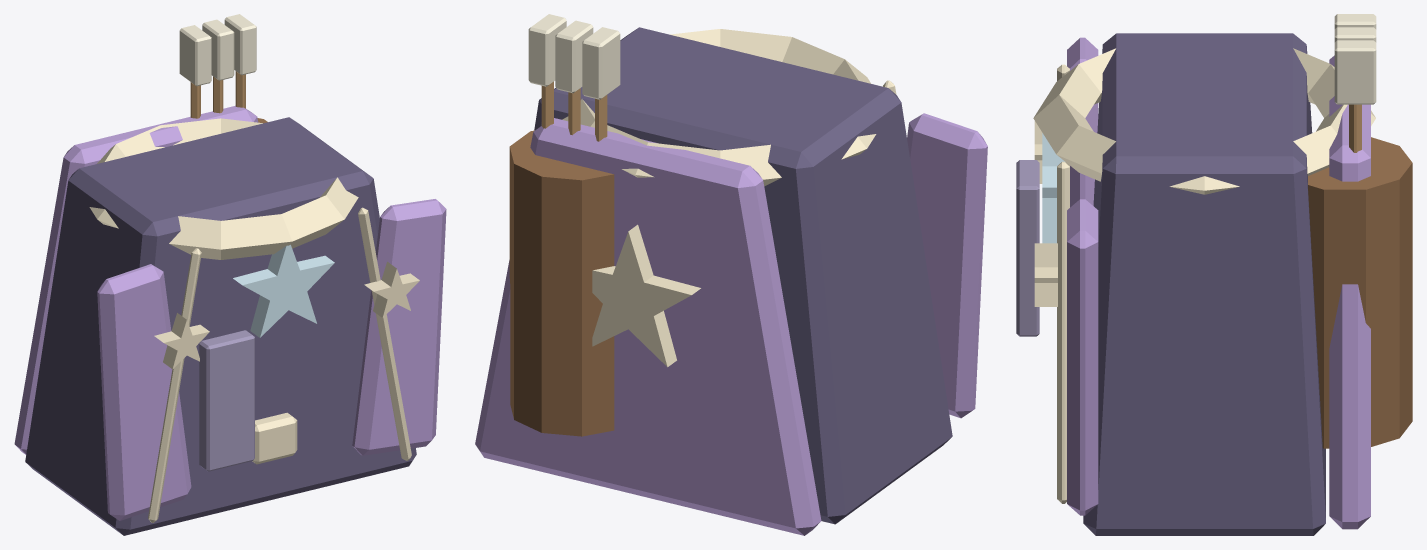
File: Oracle_Archer_Torso.fbx
3 views of the same model, side by side, from view 1: azimuth 30°, elevation 25°; view 2: azimuth 150°, elevation 25°; view 3: azimuth 270°, elevation 25° (orthographic). The views are drawn at different scales.
Visible parts, largest first — view 1: Oracle_Archer_Torso; view 2: Oracle_Archer_Torso; view 3: Oracle_Archer_Torso.
Part boxes in pixels (left/top/right/bottom): Oracle_Archer_Torso: left=14, top=14, right=446, bottom=535; Oracle_Archer_Torso: left=475, top=14, right=987, bottom=535; Oracle_Archer_Torso: left=1016, top=14, right=1412, bottom=535.
Bounding box in the file's own units: 92.55 × 97 × 76.25.
